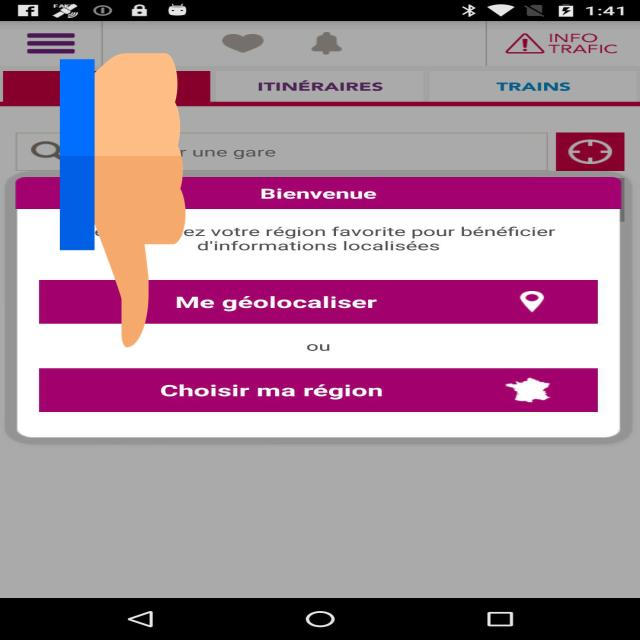obstruction: (60, 46, 185, 355)
